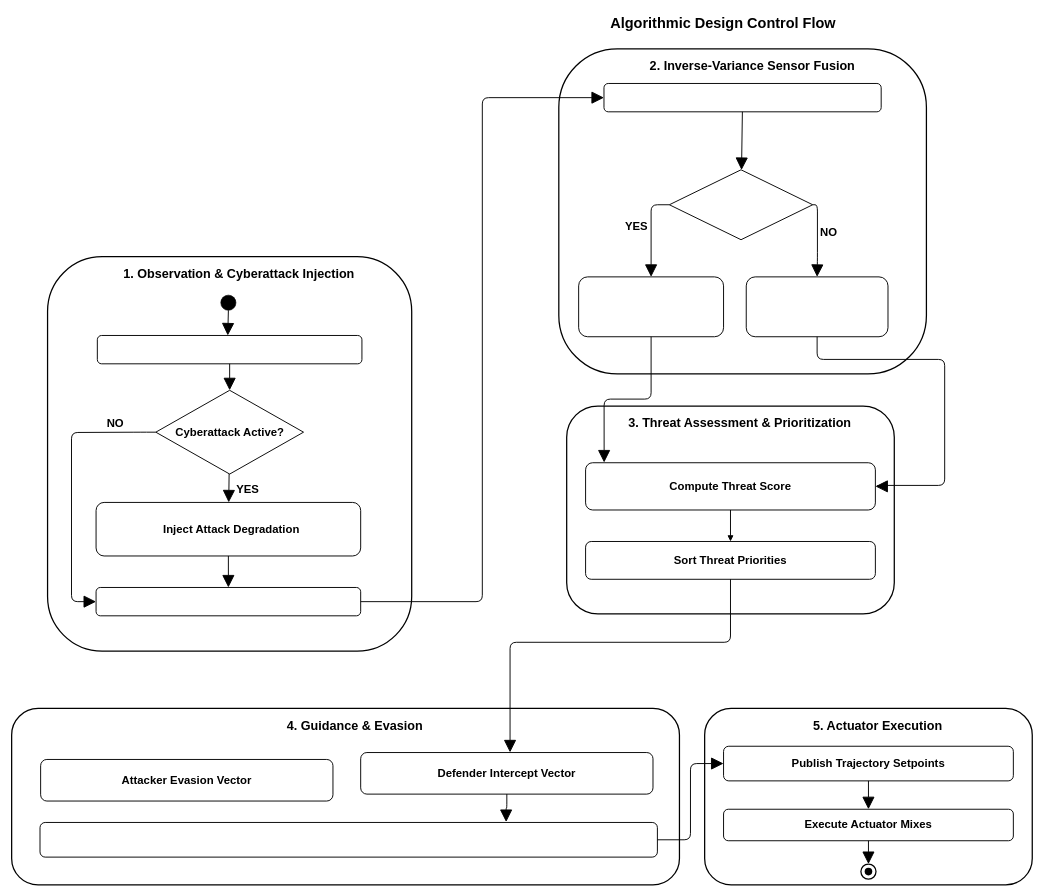
This 1043x896 diagram has some shape labels left out. Each missing label, with the box of its shape:
Add Gaussian Noise: (95, 587, 361, 616)
Coast Track: (745, 276, 888, 337)
Group Detections by Target: (603, 83, 881, 112)
Inverse-Variance Fusion: (578, 276, 724, 337)
Normalize commanded velocity setpoints within max velocity envelope (8.0 m/s): (39, 822, 658, 857)
Sample Ground Truth: (97, 335, 362, 364)
Target Detected?: (669, 169, 813, 240)
